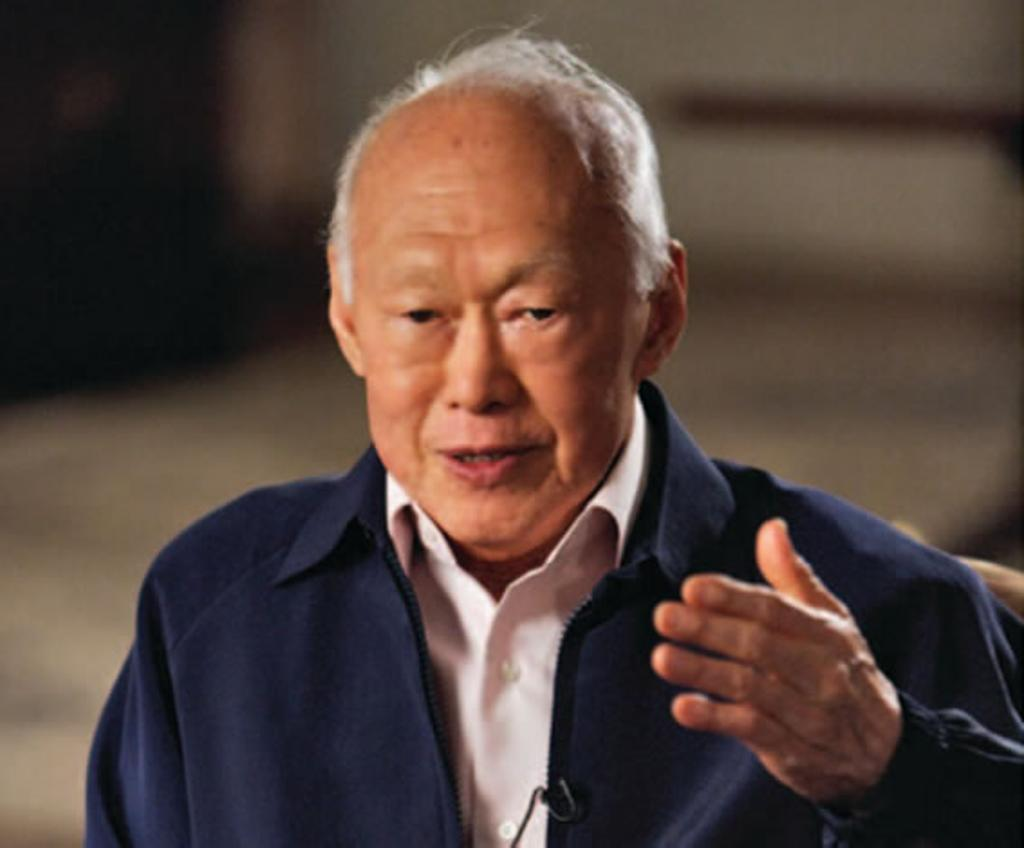face: (360, 128, 632, 554)
